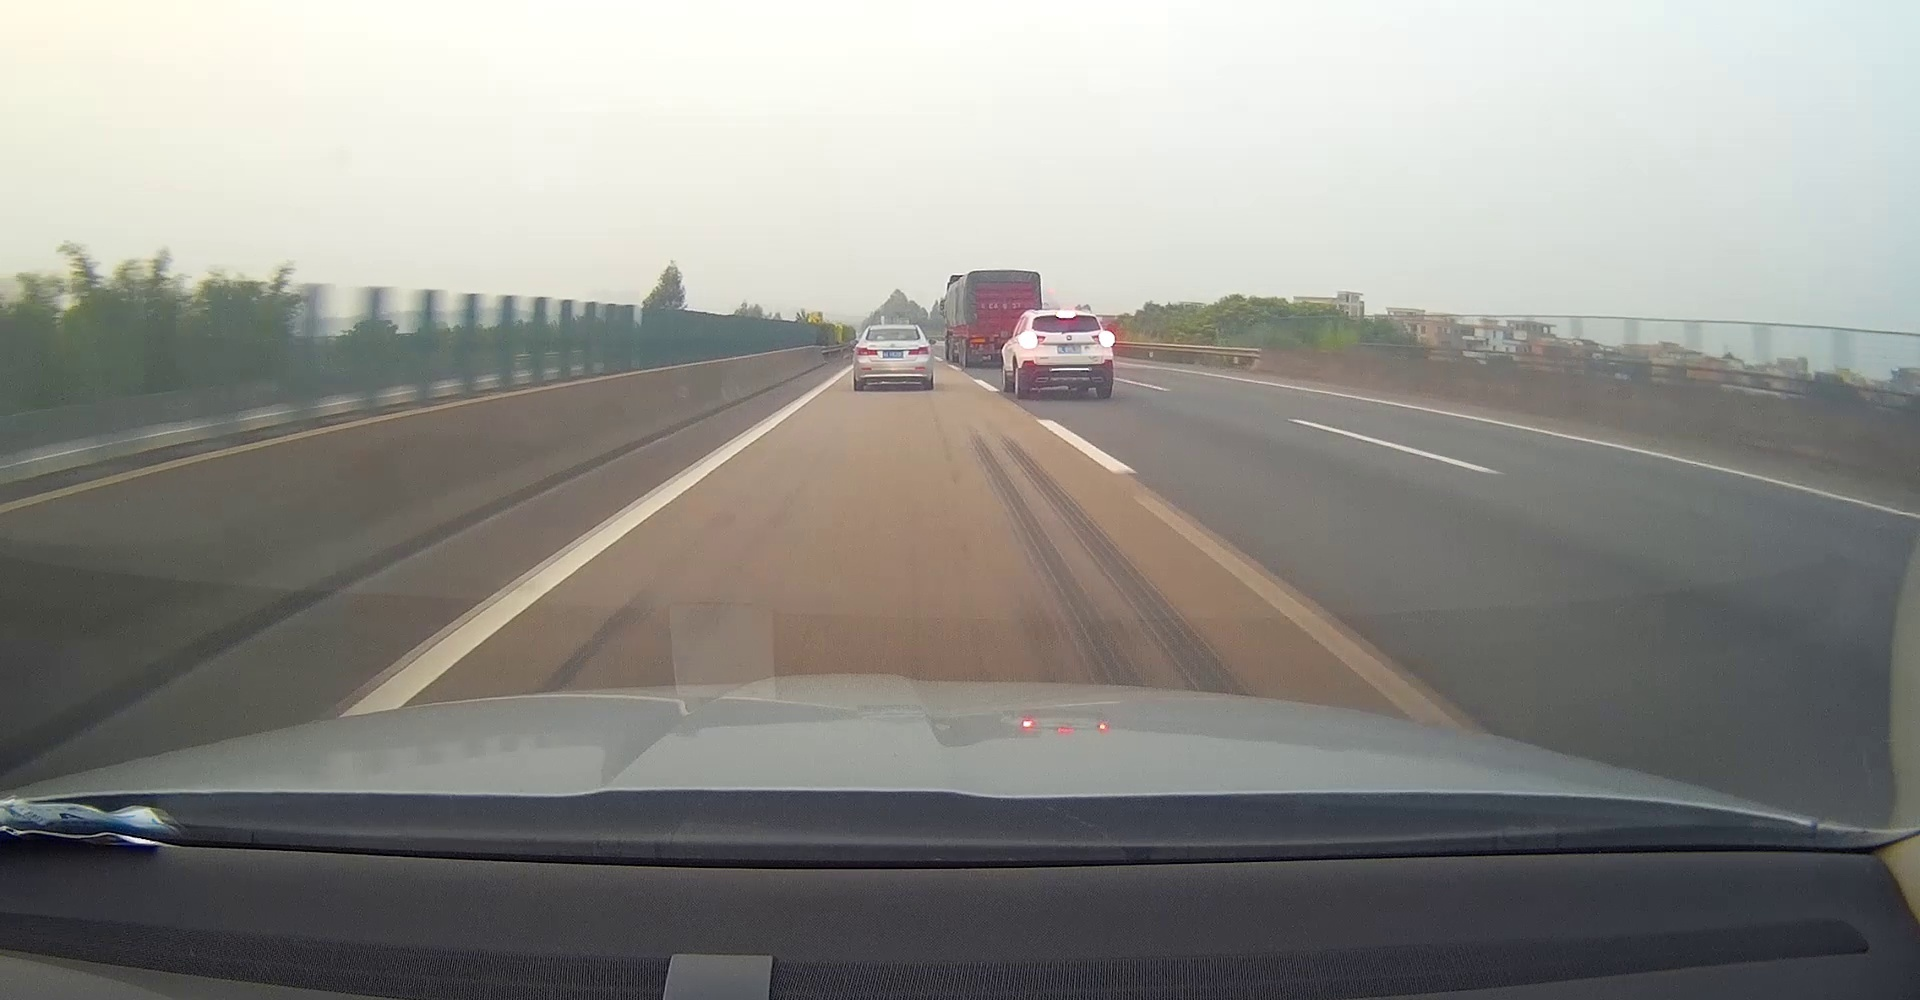L_light: (1022, 335, 1046, 344), (855, 346, 877, 355)
R_light: (908, 346, 930, 354), (1092, 335, 1110, 343)
T_light: (1060, 313, 1074, 317), (888, 329, 899, 331)
day-brake: (1018, 312, 1112, 398)
day-no: (853, 326, 931, 390)
